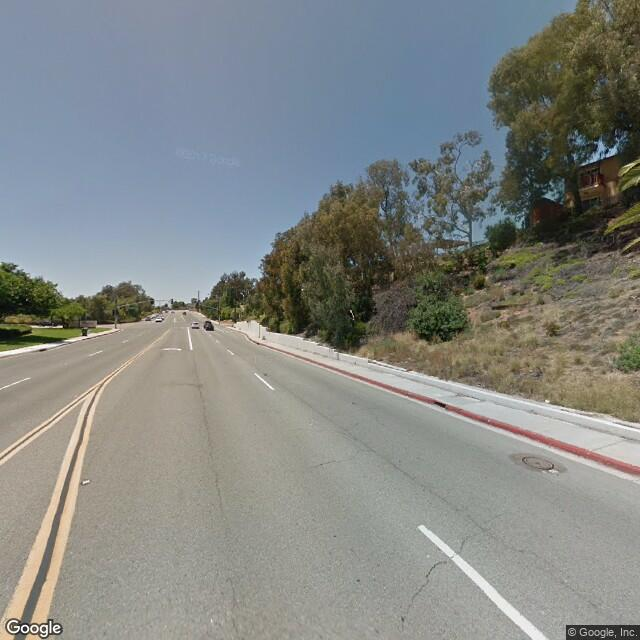litter: (546, 395, 554, 406)
